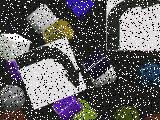Right: (14, 36, 87, 110), (106, 0, 160, 51)
